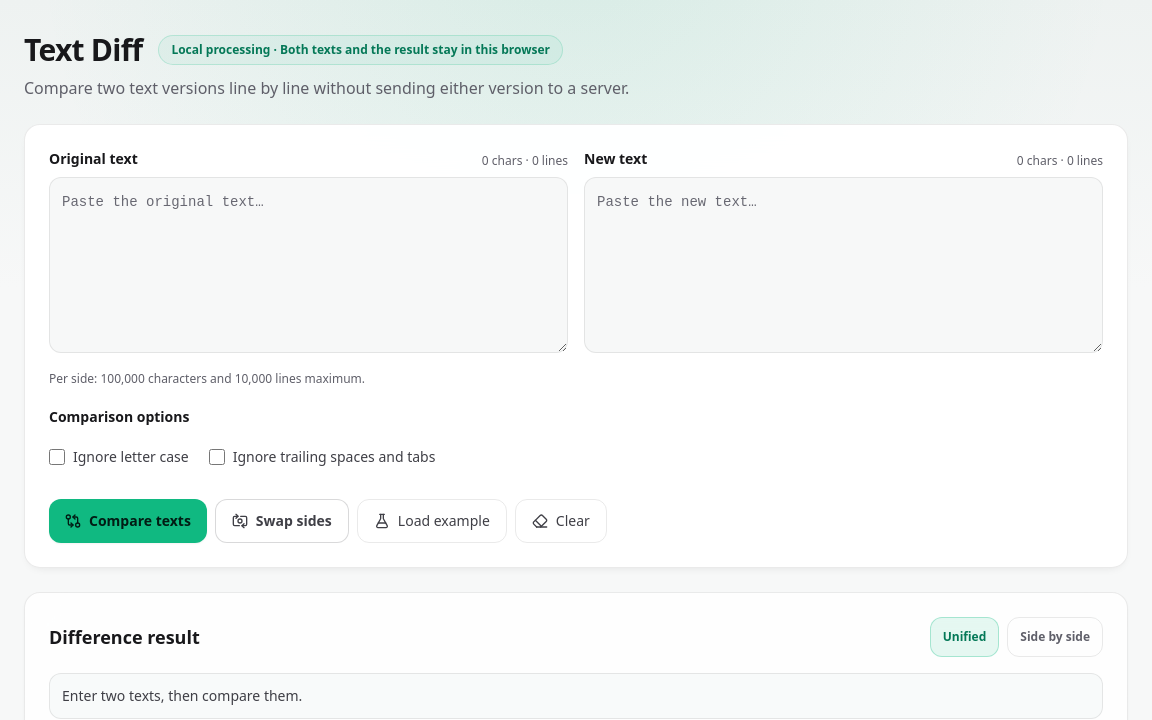
Test case: DiffClient › terminates a comparison that exceeds the worker deadline
Type "a" into the text box labelled "Original text".
click(308, 265); type("a")  # box [49, 177, 568, 353]
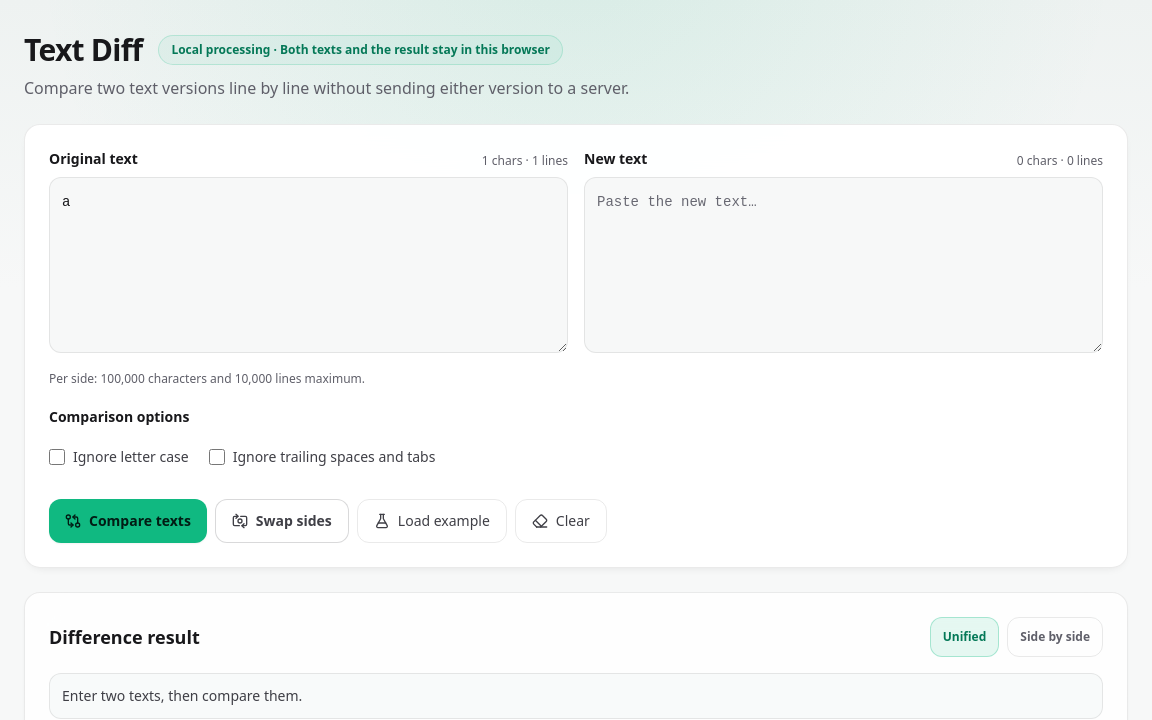
Type "b" into the text box labelled "New text".
click(844, 265); type("b")  # box [584, 177, 1103, 353]
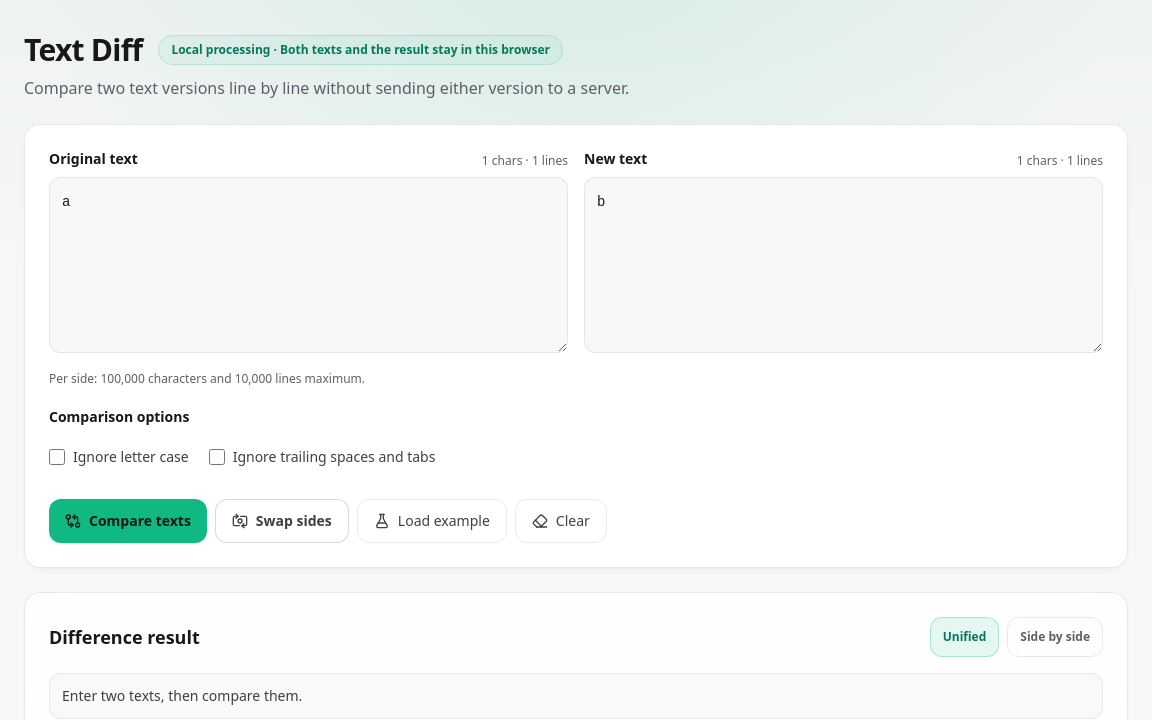
Click the button "Compare texts".
click(128, 521)  # box [49, 499, 207, 543]
Wait 1600 ms
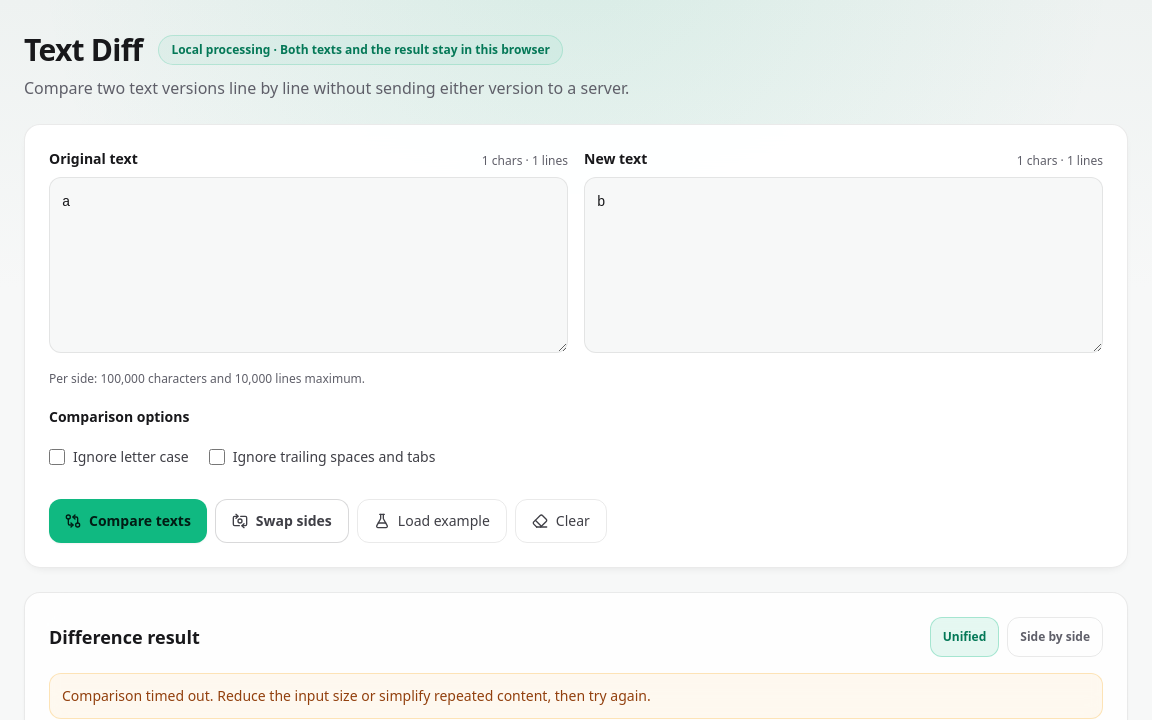
expect the text "Comparison timed out" is shown: met, box [62, 686, 651, 705]
